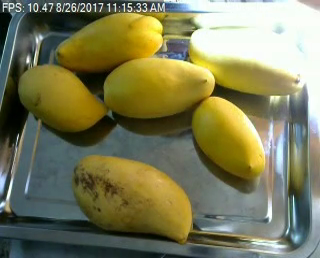Mango: (72, 156, 190, 242), (189, 25, 303, 95), (104, 59, 217, 119), (52, 10, 164, 68), (192, 93, 264, 178), (19, 64, 106, 130)
